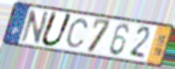2: (126, 25, 152, 62)
6: (109, 22, 130, 58)
7: (87, 17, 113, 55)
C: (64, 18, 90, 49)
N: (19, 9, 51, 46)
U: (39, 10, 74, 49)
